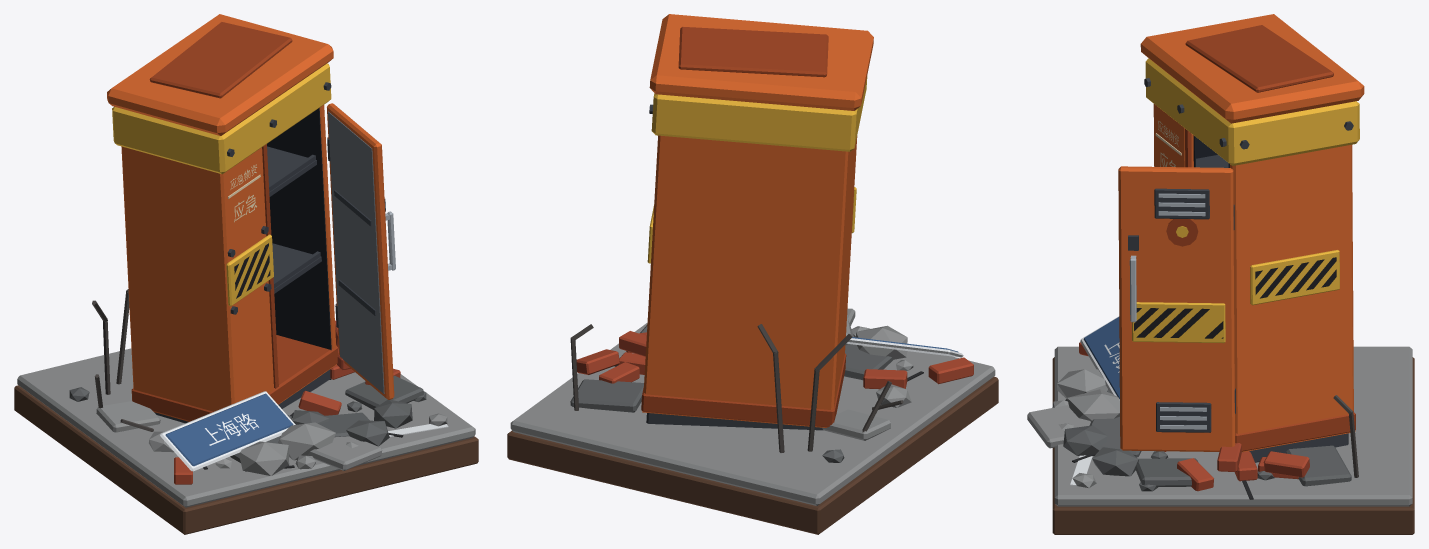
The model's file is emergency-locker.glb.
3 renders of one model, left to right at view 1: azimuth 30°, elevation 25°; view 2: azimuth 150°, elevation 25°; view 3: azimuth 270°, elevation 25°, orthographic. The views are drawn at different scales.
Visible parts, largest first — view 1: Cabinet_Body, Base, Door, Cabinet_Interior; view 2: Cabinet_Body, Base; view 3: Cabinet_Body, Base, Door, Cabinet_Interior.
Part boxes in pixels (box(x1,y1,x2,y2)): Cabinet_Body: box(107, 14, 338, 423); Base: box(14, 289, 478, 534); Door: box(327, 103, 395, 399); Cabinet_Interior: box(267, 108, 331, 350); Cabinet_Body: box(641, 14, 873, 430); Base: box(507, 308, 998, 534); Cabinet_Body: box(1140, 14, 1364, 462); Base: box(1027, 316, 1414, 534); Door: box(1118, 166, 1235, 451); Cabinet_Interior: box(1193, 135, 1229, 167).
Size of the model in its own units: 1.73 by 2.08 by 1.82.
